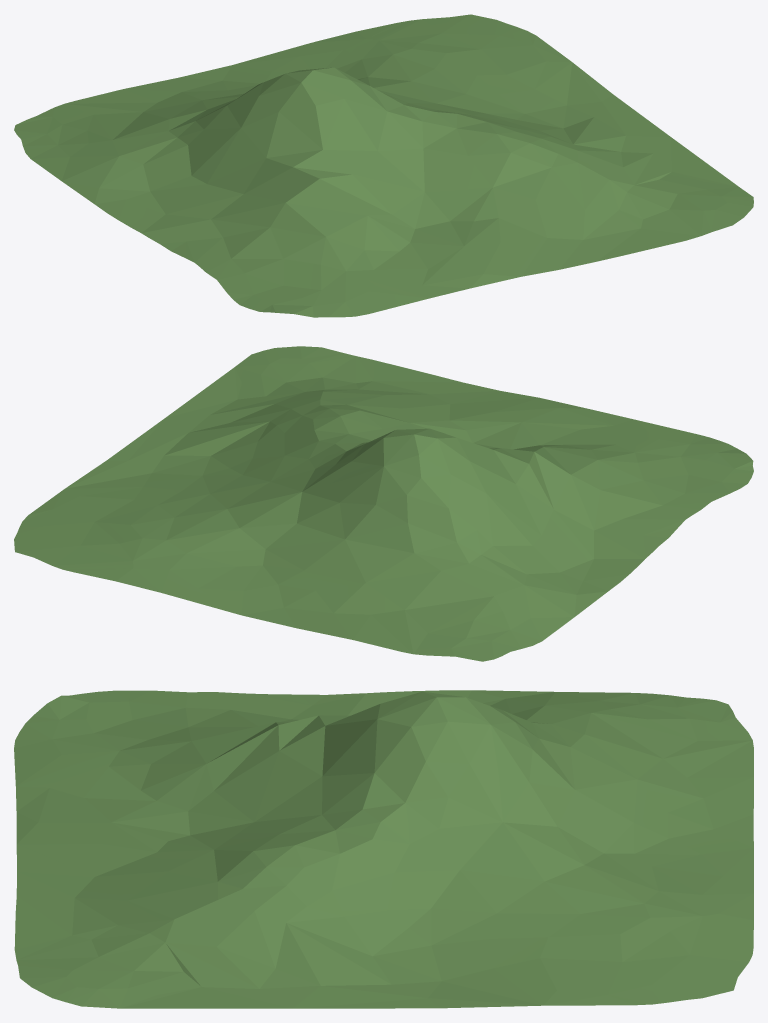
File: ground_02.glb
3 views of the same model, one above another, from view 1: azimuth 30°, elevation 25°; view 2: azimuth 150°, elevation 25°; view 3: azimuth 270°, elevation 25° (orthographic). The views are drawn at different scales.
Visible parts, largest first — view 1: Ground_02; view 2: Ground_02; view 3: Ground_02.
Part boxes in pixels (x1,y1,x2,y2): Ground_02: (14,14,753,317); Ground_02: (14,346,753,661); Ground_02: (14,690,753,1008).
Size of the model in its own units: 29.77 by 5.57 by 29.74.
Materials: 1 (1 with a texture image).
